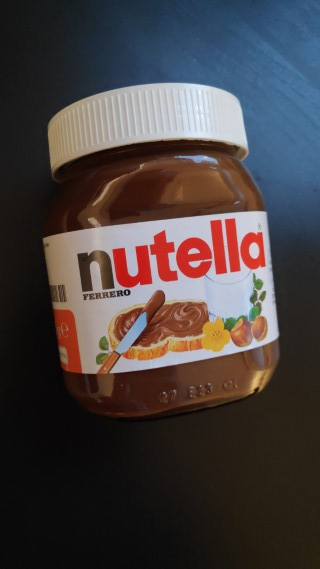nutella: (41, 81, 282, 422)
